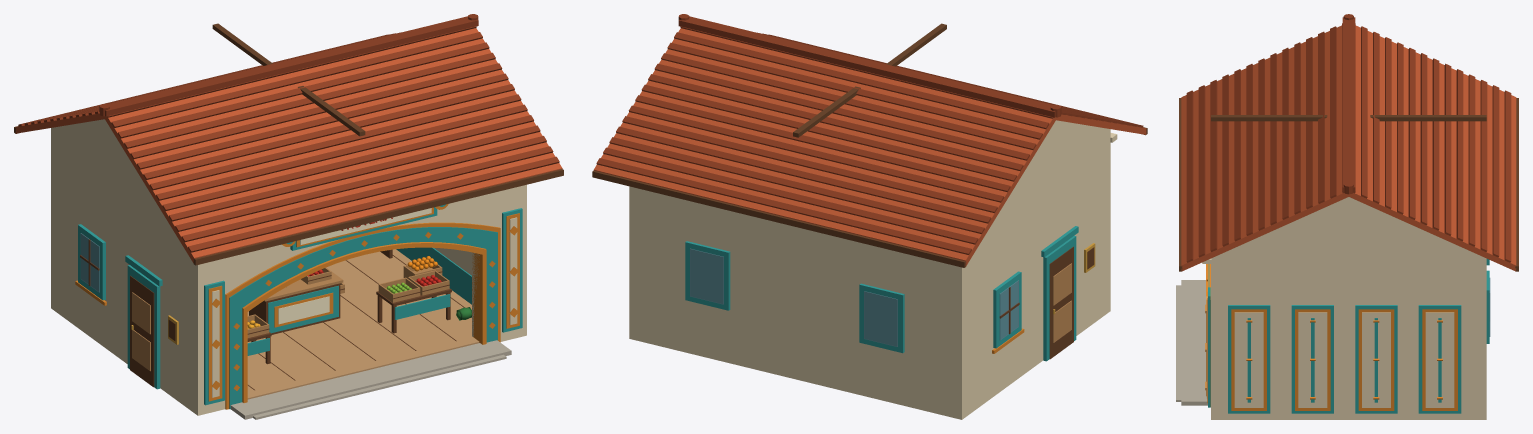
The model's file is puesto-fruteria.glb.
The picture shows the model from 3 angles, left to right: view 1: azimuth 30°, elevation 25°; view 2: azimuth 150°, elevation 25°; view 3: azimuth 270°, elevation 25°; orthographic projection. The views are drawn at different scales.
Parts seen in each view (by area): view 1: Fruteria_TejaOscura, Fruteria_Crema, Fruteria_Teja, Fruteria_Turquesa, Fruteria_PisoBarro, Fruteria_NaranjaPint, Fruteria_MaderaOscura, Fruteria_Piedra, Fruteria_MaderaCajon, Fruteria_CartelCrema, Fruteria_Vidrio; view 2: Fruteria_Crema, Fruteria_TejaOscura, Fruteria_Teja, Fruteria_Turquesa, Fruteria_MaderaOscura, Fruteria_Vidrio, Fruteria_MaderaCajon; view 3: Fruteria_Crema, Fruteria_TejaOscura, Fruteria_Teja, Fruteria_Turquesa, Fruteria_NaranjaPint, Fruteria_Piedra, Fruteria_MaderaOscura.
Part boxes in pixels (x1,y1,x2,y2): Fruteria_TejaOscura: (18,14,559,252); Fruteria_Crema: (51,119,526,415); Fruteria_Teja: (15,28,562,262); Fruteria_Turquesa: (78,204,522,409); Fruteria_PisoBarro: (247,249,479,399); Fruteria_NaranjaPint: (75,204,519,409); Fruteria_MaderaOscura: (14,23,563,390); Fruteria_Piedra: (230,340,511,419); Fruteria_MaderaCajon: (132,264,449,371); Fruteria_CartelCrema: (278,208,431,324); Fruteria_Vidrio: (80,233,99,292); Fruteria_Crema: (629,120,1117,419); Fruteria_TejaOscura: (596,14,1143,254); Fruteria_Teja: (593,28,1146,266); Fruteria_Turquesa: (685,226,1078,361); Fruteria_MaderaOscura: (592,23,1147,359); Fruteria_Vidrio: (690,248,1018,346); Fruteria_MaderaCajon: (1053,263,1071,342); Fruteria_Crema: (1202,197,1486,419); Fruteria_TejaOscura: (1186,14,1511,262); Fruteria_Teja: (1181,25,1516,271); Fruteria_Turquesa: (1208,259,1489,413); Fruteria_NaranjaPint: (1205,264,1457,410); Fruteria_Piedra: (1176,280,1207,405); Fruteria_MaderaOscura: (1179,98,1518,271).
Size of the model in its own units: 9.64 by 6.36 by 8.08.
